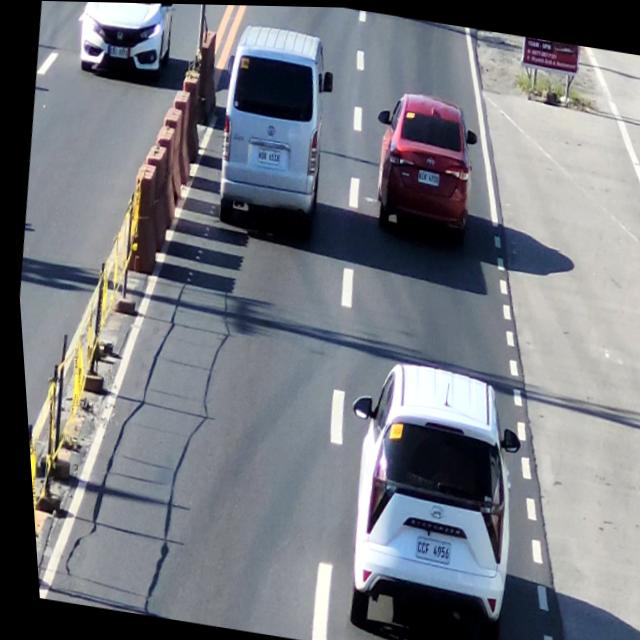Car: (328, 360, 529, 637), (209, 20, 340, 227), (363, 87, 482, 242)
License-Plate: (403, 531, 448, 570), (413, 161, 443, 190), (252, 146, 282, 170), (108, 41, 131, 61)
